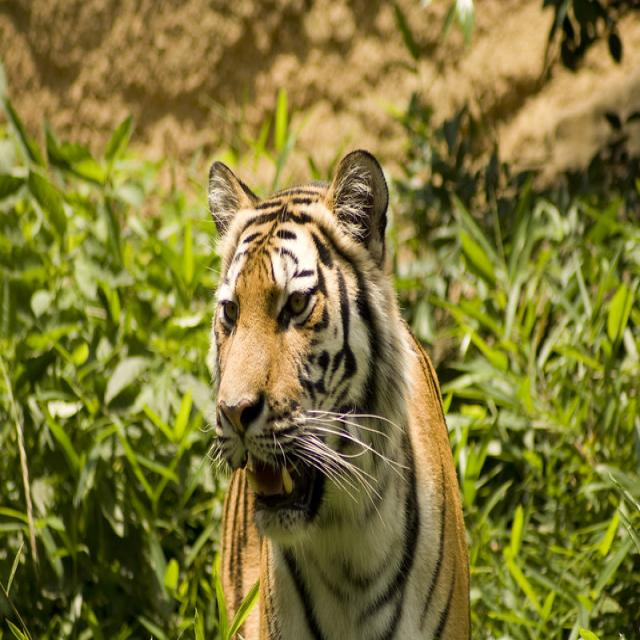Tiger: (204, 153, 472, 639)
